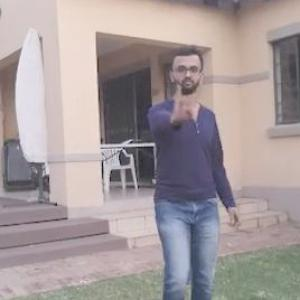takeoff-hand: (164, 79, 202, 128)
